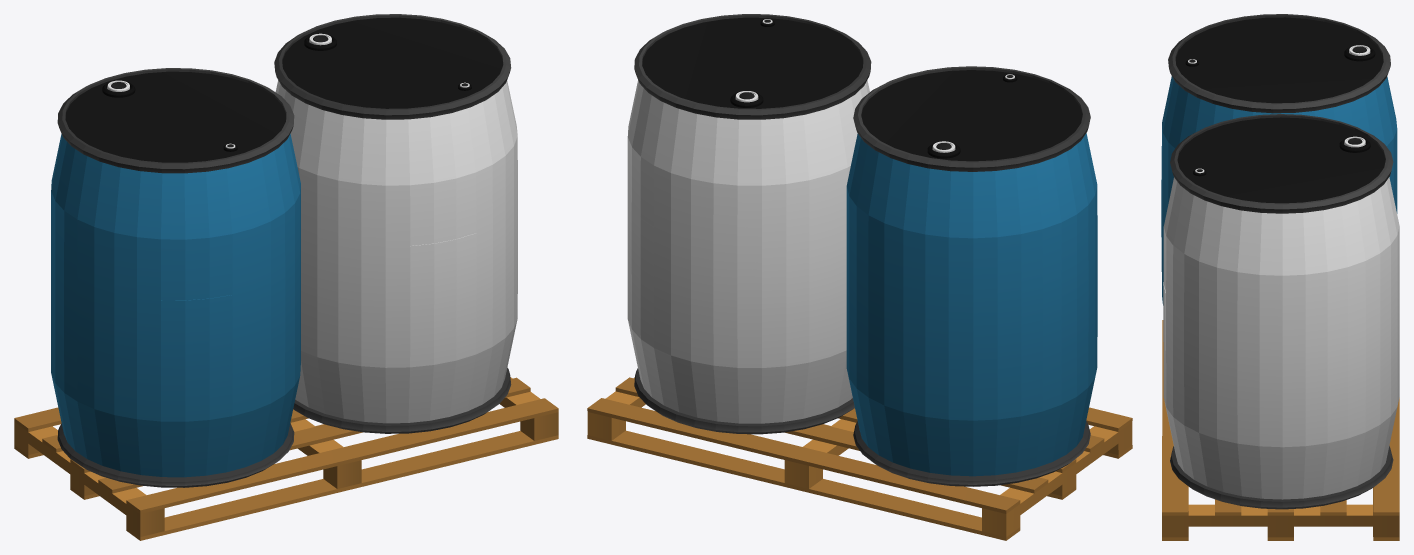
File: Med Water Barrel Pallet.fbx
The picture shows the model from 3 angles, left to right: view 1: azimuth 30°, elevation 25°; view 2: azimuth 150°, elevation 25°; view 3: azimuth 270°, elevation 25°; orthographic projection. The views are drawn at different scales.
Visible parts, largest first — view 1: Med Water Barrel Pallet; view 2: Med Water Barrel Pallet; view 3: Med Water Barrel Pallet.
Part boxes in pixels (x1,y1,x2,y2): Med Water Barrel Pallet: (14,14,558,540); Med Water Barrel Pallet: (587,14,1132,540); Med Water Barrel Pallet: (1161,14,1399,540).
Size of the model in its own units: 465 by 297 by 590.
1 material, 1 textured.
